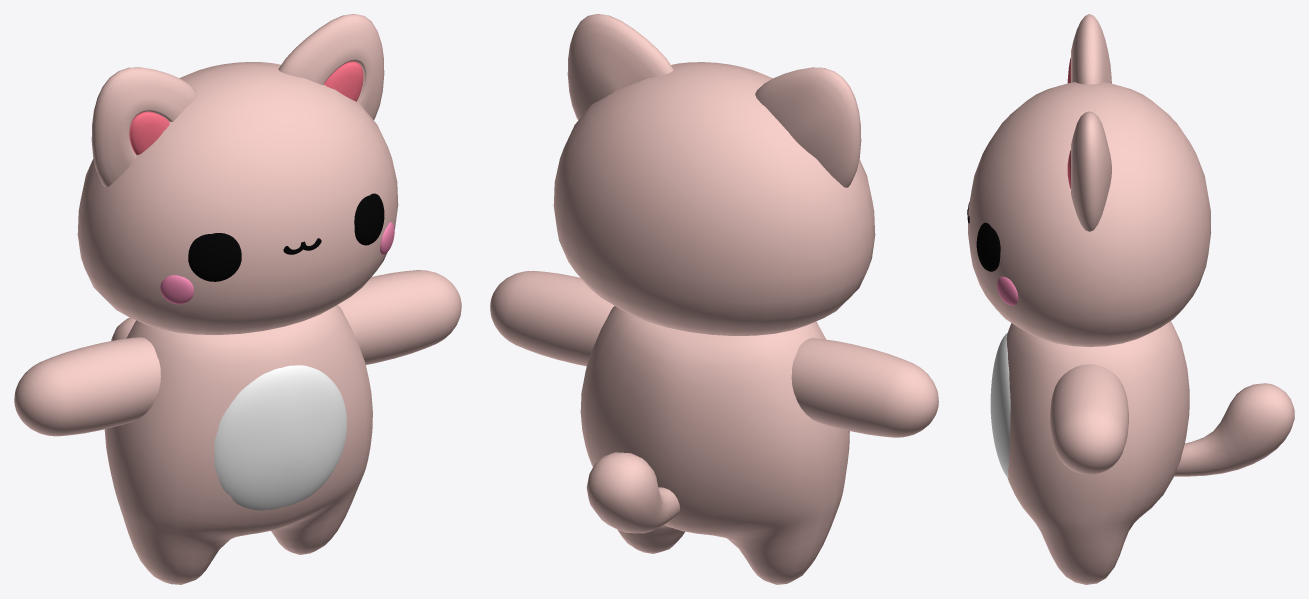
The model's file is Starlight Paws v1.fbx.
The picture shows the model from 3 angles, left to right: view 1: azimuth 30°, elevation 25°; view 2: azimuth 150°, elevation 25°; view 3: azimuth 270°, elevation 25°; orthographic projection. The views are drawn at different scales.
Visible parts, largest first — view 1: Body; view 2: Body; view 3: Body.
Part boxes in pixels (x1=…): Body: x1=14, y1=14, x2=461, y2=584; Body: x1=490, y1=14, x2=938, y2=584; Body: x1=967, y1=14, x2=1294, y2=584.
Bounding box in the file's own units: 420 × 479 × 292.
